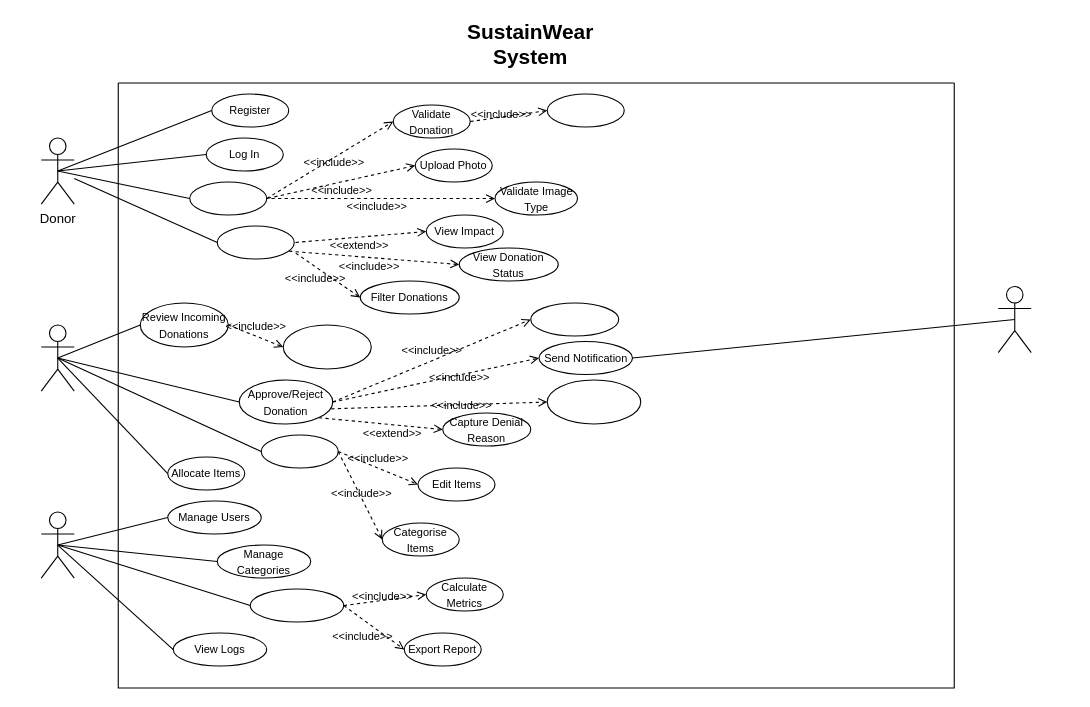
Image size: 1090x707. Some labels were removed from this diagram. Each missing label, with the box of its shape:
Administrator: (40, 511, 74, 578)
Charity Staff: (40, 324, 74, 391)
Check Donation Status: (546, 379, 641, 424)
Generate Report: (249, 588, 344, 622)
Manage Inventory: (260, 434, 338, 468)
Notification Service: (997, 285, 1031, 353)
Store Donation: (546, 93, 624, 127)
Submit Donation: (189, 181, 267, 215)
Update Inventory: (530, 302, 619, 336)
View Donation Details: (282, 324, 371, 369)
View History: (216, 225, 294, 259)
